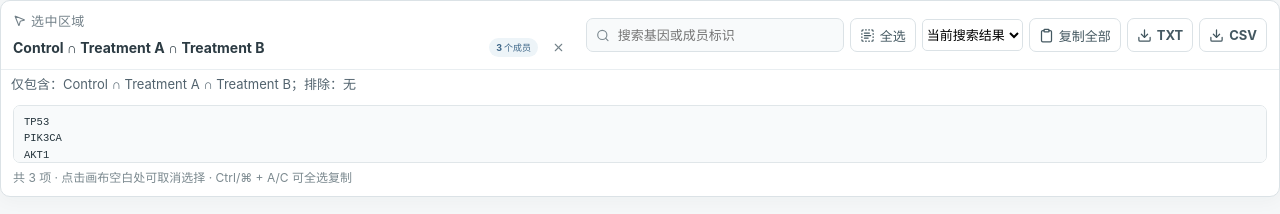
it: selected intersection member panel › shows selectable text and filters members without changing the region
The width and height of the screenshot is (1280, 214).
Expected: the text "Control ∩ Treatment A ∩ Treatment B" is shown, [13,38,265,56]
Type "PIK" into the search field named "搜索选中区域成员". click: [725, 35]
box: [616,19,834,51]
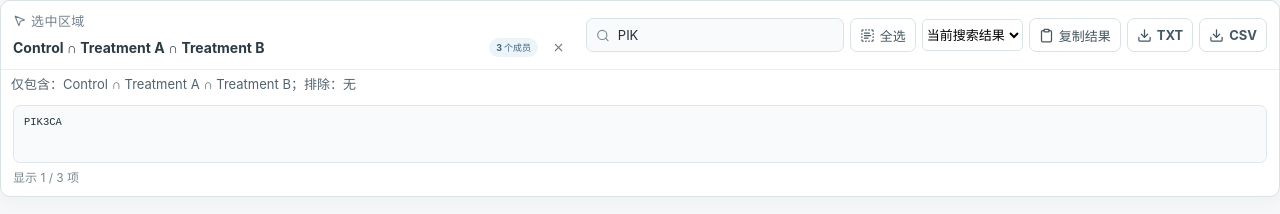
Expected: the text box named "选中区域成员文本" holds "PIK3CA", [13,105,1267,163]
Expected: the text "显示 1 / 3 项" is shown, [13,170,79,185]
